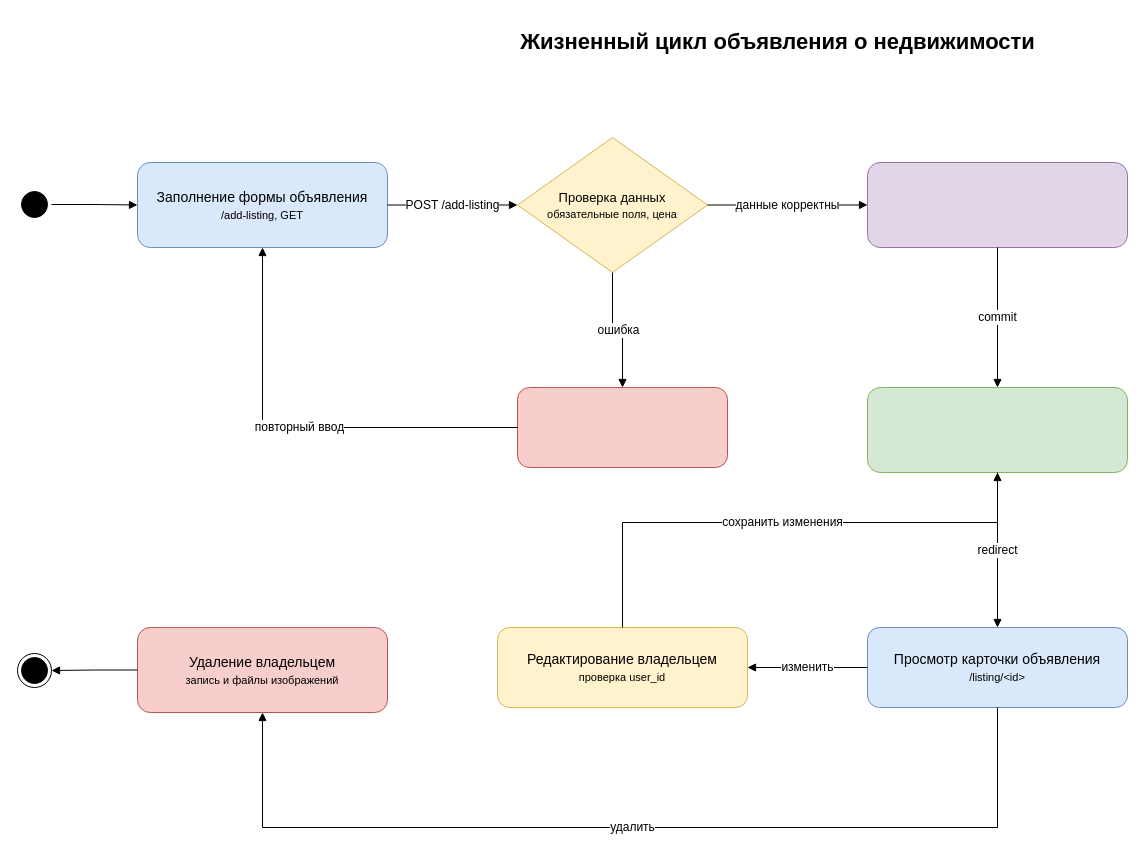
Image size: 1145x853. Some labels were removed from this diagram. Here are the shapes that lost their labels. From the top down, the centre of each, then its label:
At point 997,205: "Обработка изображений allowed_file(), save_image()".
At point 622,427: "Ошибка валидации flash-сообщение".
At point 997,429: "Объявление опубликовано db.session.commit()".
